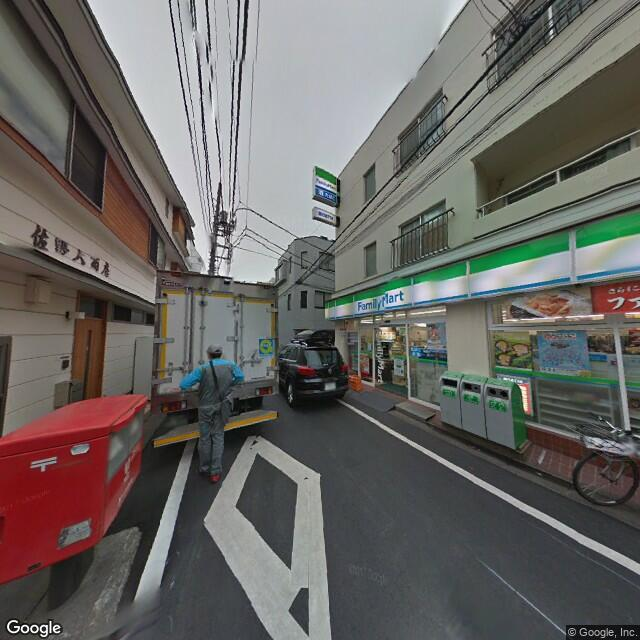family_mart: (322, 207, 640, 323), (313, 161, 338, 204)
